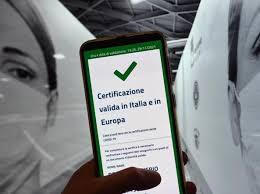0: (0, 4, 35, 137)
Hand: (64, 154, 198, 194)
Smartphone: (85, 40, 182, 194)
